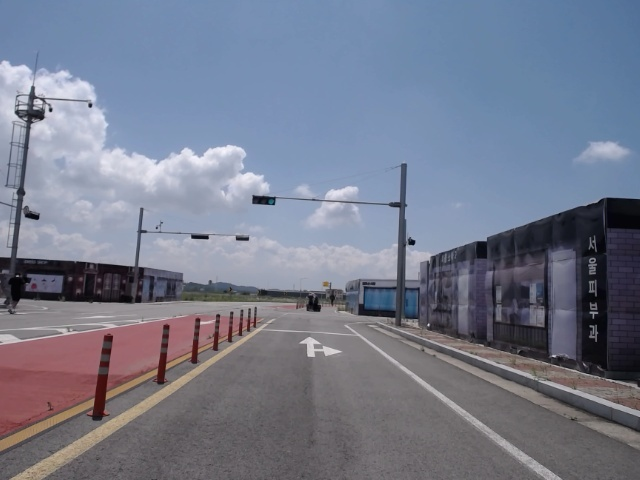green_3: (254, 196, 276, 204)
